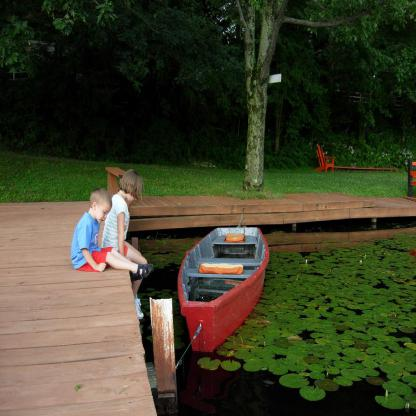face: (98, 205, 112, 223), (128, 190, 140, 203)
